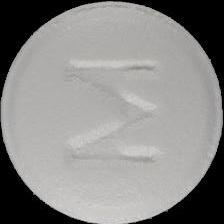63629-3226: (0, 0, 224, 224)
